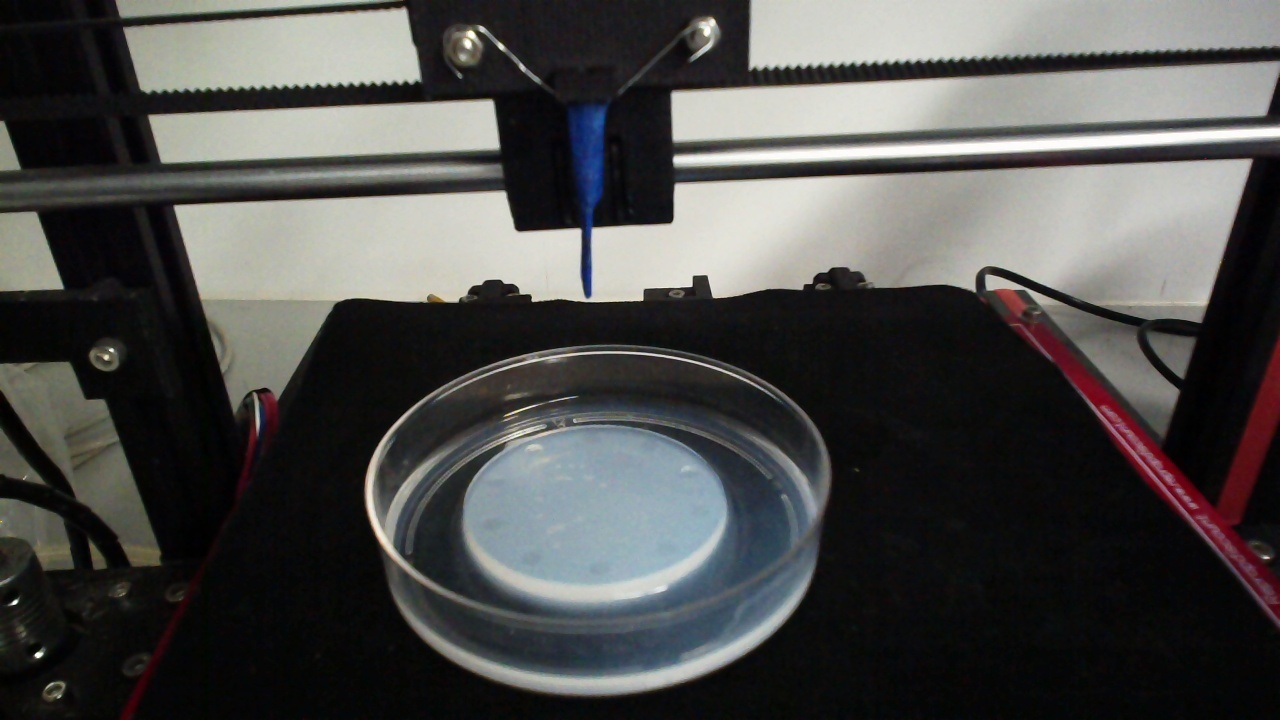groove: (518, 548, 545, 569), (478, 514, 506, 534), (652, 540, 680, 560), (586, 558, 611, 579), (677, 462, 701, 480), (482, 472, 506, 489), (689, 504, 711, 520), (637, 438, 659, 453), (580, 433, 603, 447), (523, 442, 543, 457)
needle: (571, 102, 606, 300)
